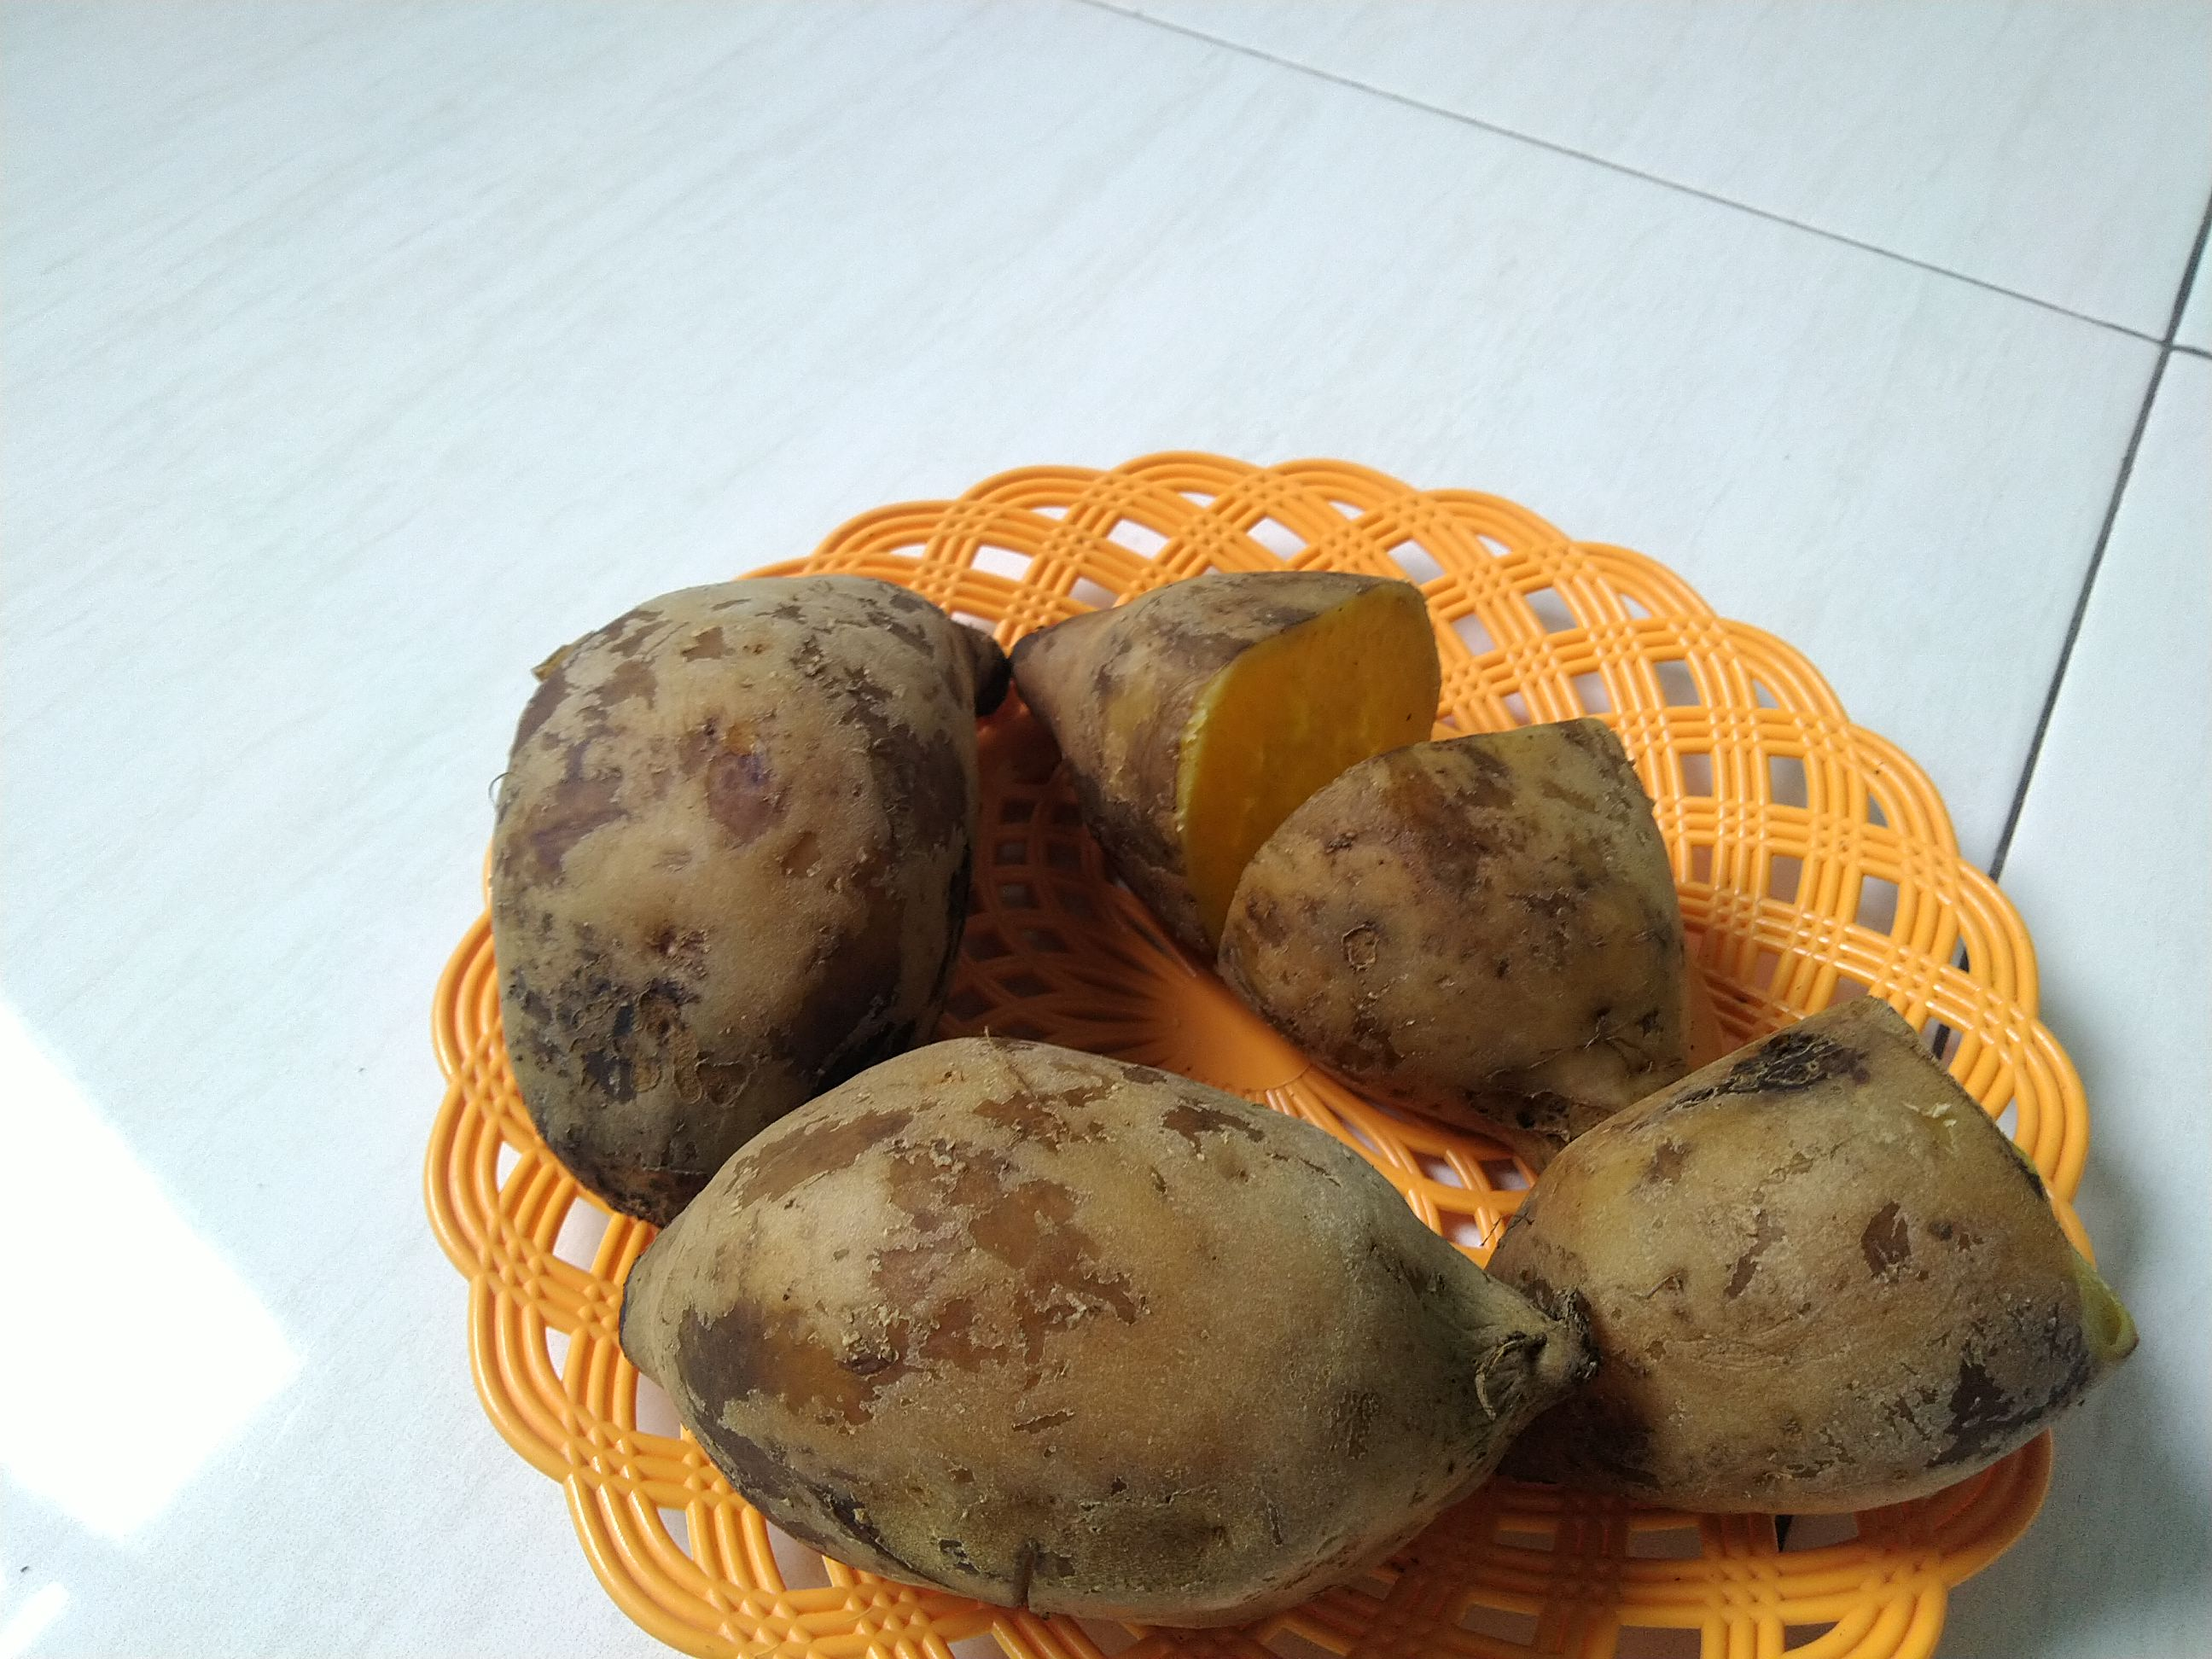ubi kuning: (608, 1023, 1606, 1636), (1010, 561, 1759, 1141), (1461, 974, 2158, 1530), (469, 561, 1019, 1208), (1198, 702, 1700, 1141), (1000, 570, 1442, 962)
